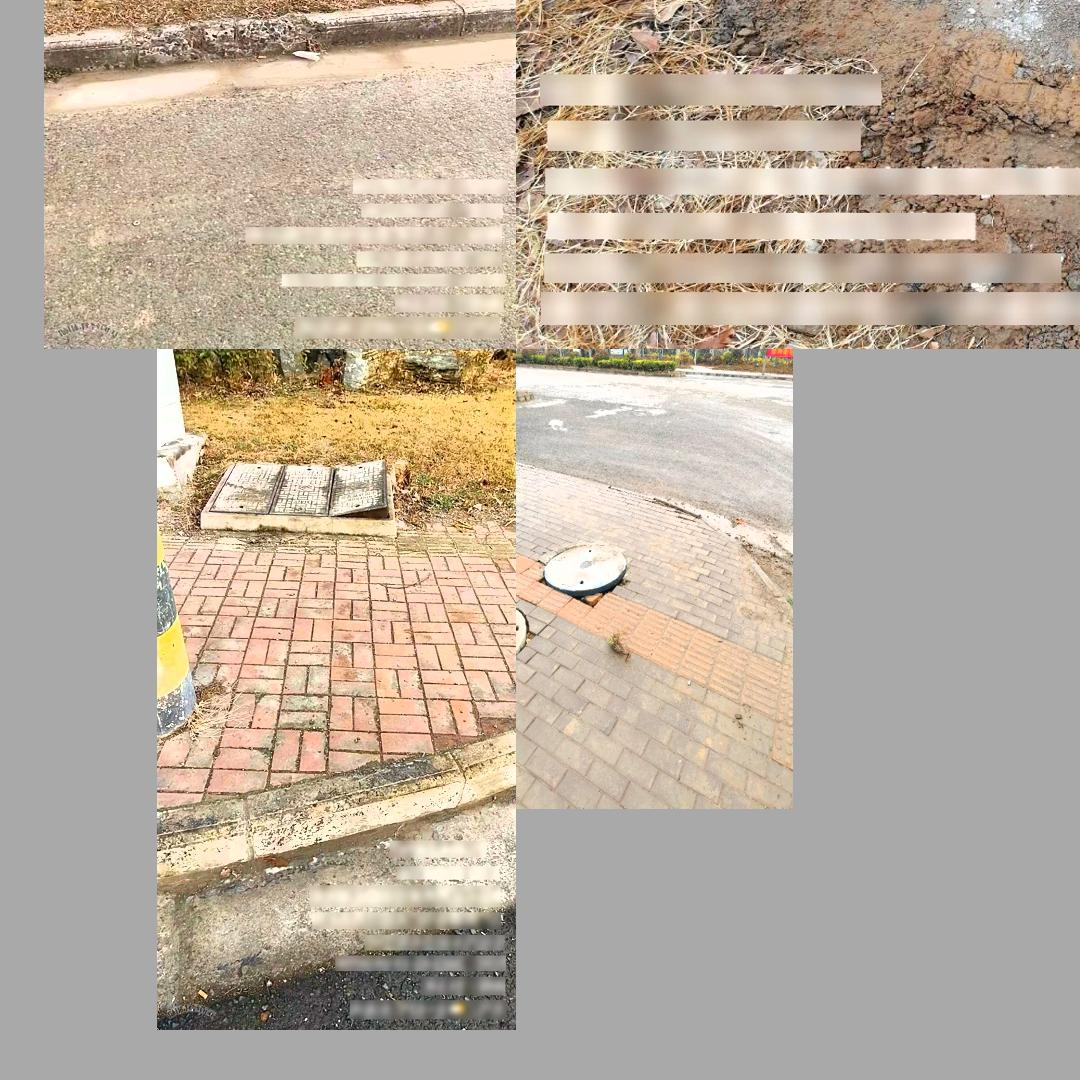uncovered: (197, 456, 396, 524), (542, 544, 624, 594)
